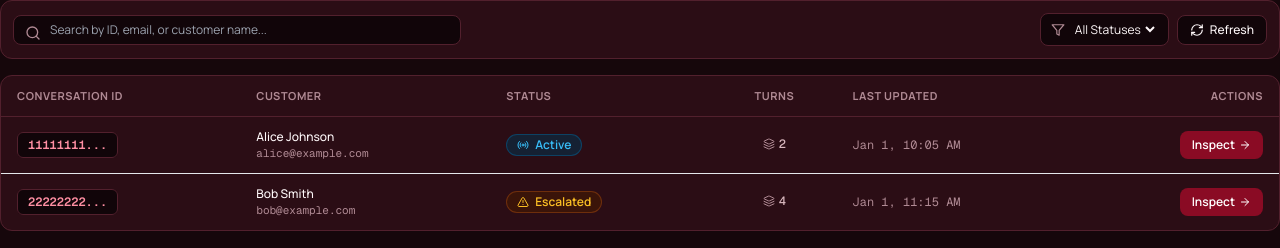
it: ConversationTable › shows no results message when filter matches nothing
The image size is (1280, 248).
Type "nonexistent" into the field with test id "search-input" at (237, 30), box [13,14,461,44]
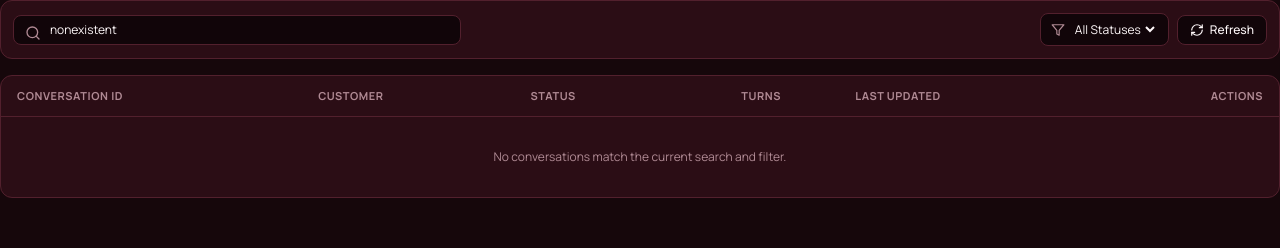
Expected: the cell with test id "no-results-row" is shown, [1,116,1279,197]
